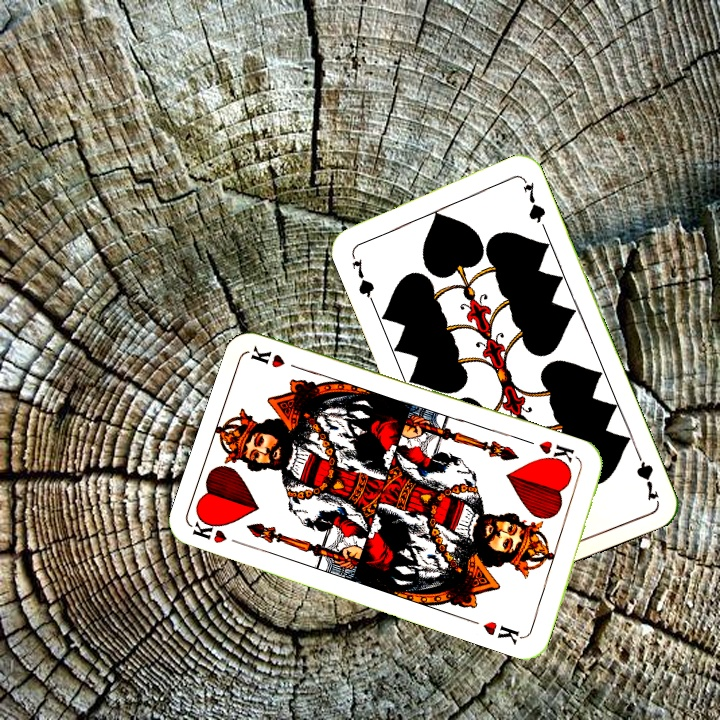G7: (631, 445, 662, 503), (347, 248, 377, 305)
HK: (189, 513, 248, 549), (534, 436, 583, 471)
